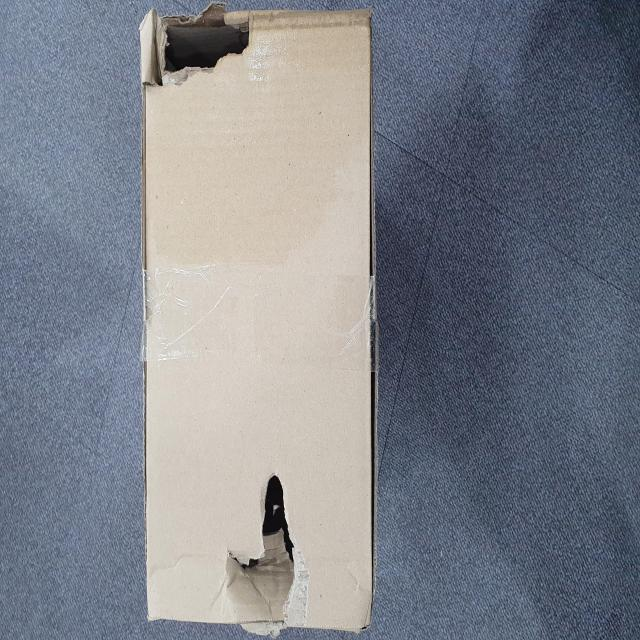damaged: (220, 466, 300, 620), (146, 12, 250, 102)
